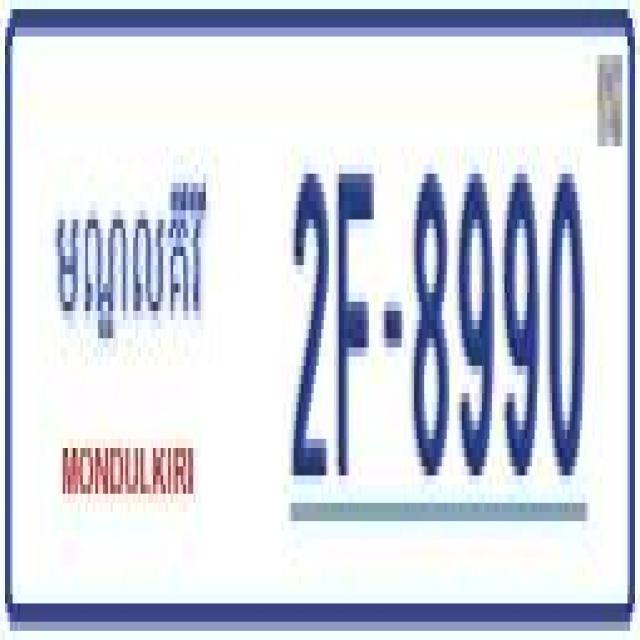Mondul_Kiri: (53, 155, 214, 366)
